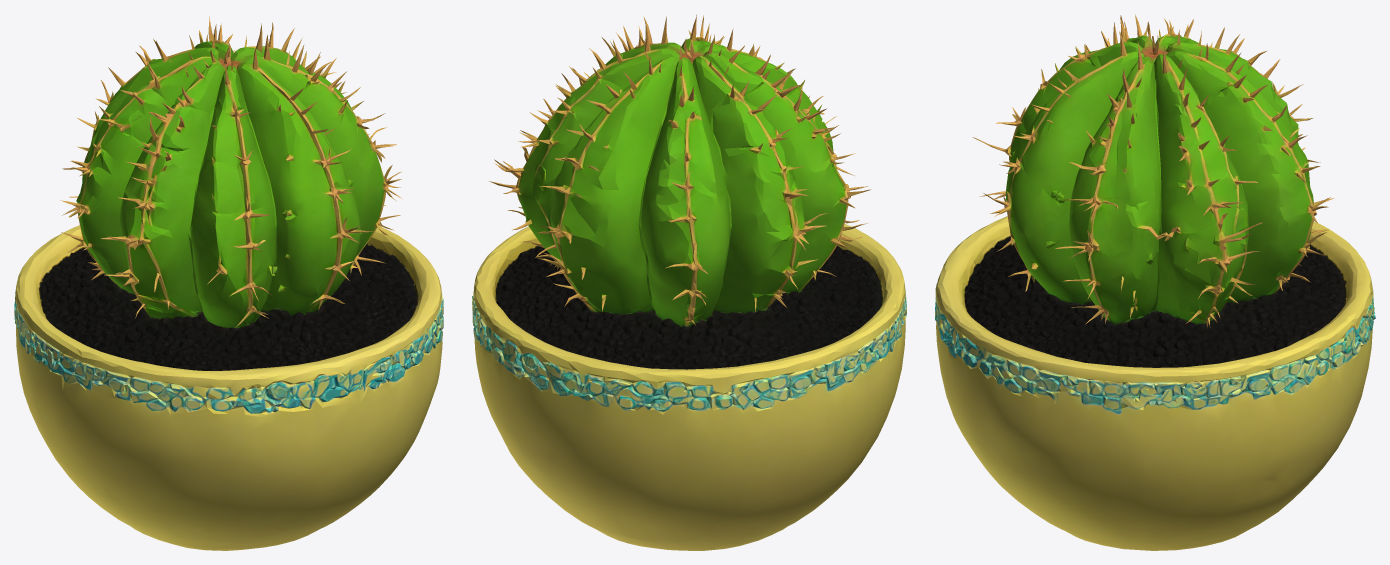
File: cactus.glb
3 views of the same model, side by side, from view 1: azimuth 30°, elevation 25°; view 2: azimuth 150°, elevation 25°; view 3: azimuth 270°, elevation 25° (orthographic). The views are drawn at different scales.
Parts seen in each view (by area): view 1: model; view 2: model; view 3: model.
Part boxes in pixels (x1,y1,x2,y2): model: (14,16,443,550); model: (472,14,906,550); model: (935,14,1375,550).
Size of the model in its own units: 1.55 by 1.88 by 1.56.
1 material, 1 textured.
